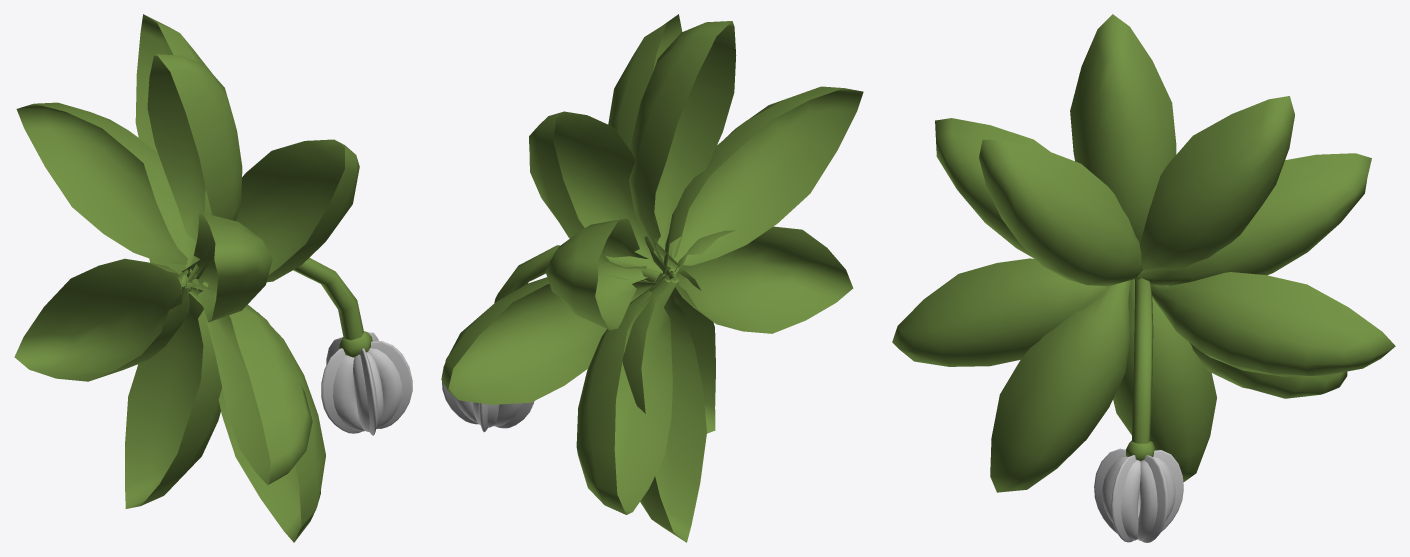
File: Mode_bananes_mur.fbx
3 renders of one model, left to right at view 1: azimuth 30°, elevation 25°; view 2: azimuth 150°, elevation 25°; view 3: azimuth 270°, elevation 25°, orthographic. The views are drawn at different scales.
Parts seen in each view (by area): view 1: feuilles1, branche, banane05, banane03, banane04; view 2: feuilles1, branche, banane05, banane02, banane01; view 3: feuilles1, branche, banane02, banane03, banane04, banane01.
Part boxes in pixels (left/top/right/bottom): feuilles1: left=14, top=14, right=359, bottom=542; branche: left=293, top=257, right=372, bottom=357; banane05: left=321, top=348, right=364, bottom=433; banane03: left=368, top=341, right=412, bottom=428; banane04: left=353, top=348, right=383, bottom=435; feuilles1: left=441, top=14, right=863, bottom=542; branche: left=494, top=245, right=661, bottom=302; banane05: left=493, top=401, right=534, bottom=428; banane02: left=442, top=381, right=478, bottom=424; banane01: left=472, top=402, right=499, bottom=432; feuilles1: left=892, top=14, right=1395, bottom=492; branche: left=1126, top=278, right=1155, bottom=460; banane02: left=1137, top=455, right=1167, bottom=542; banane03: left=1111, top=455, right=1140, bottom=542; banane04: left=1094, top=448, right=1127, bottom=533; banane01: left=1153, top=450, right=1183, bottom=531.
Size of the model in its own units: 198 by 314 by 310.
